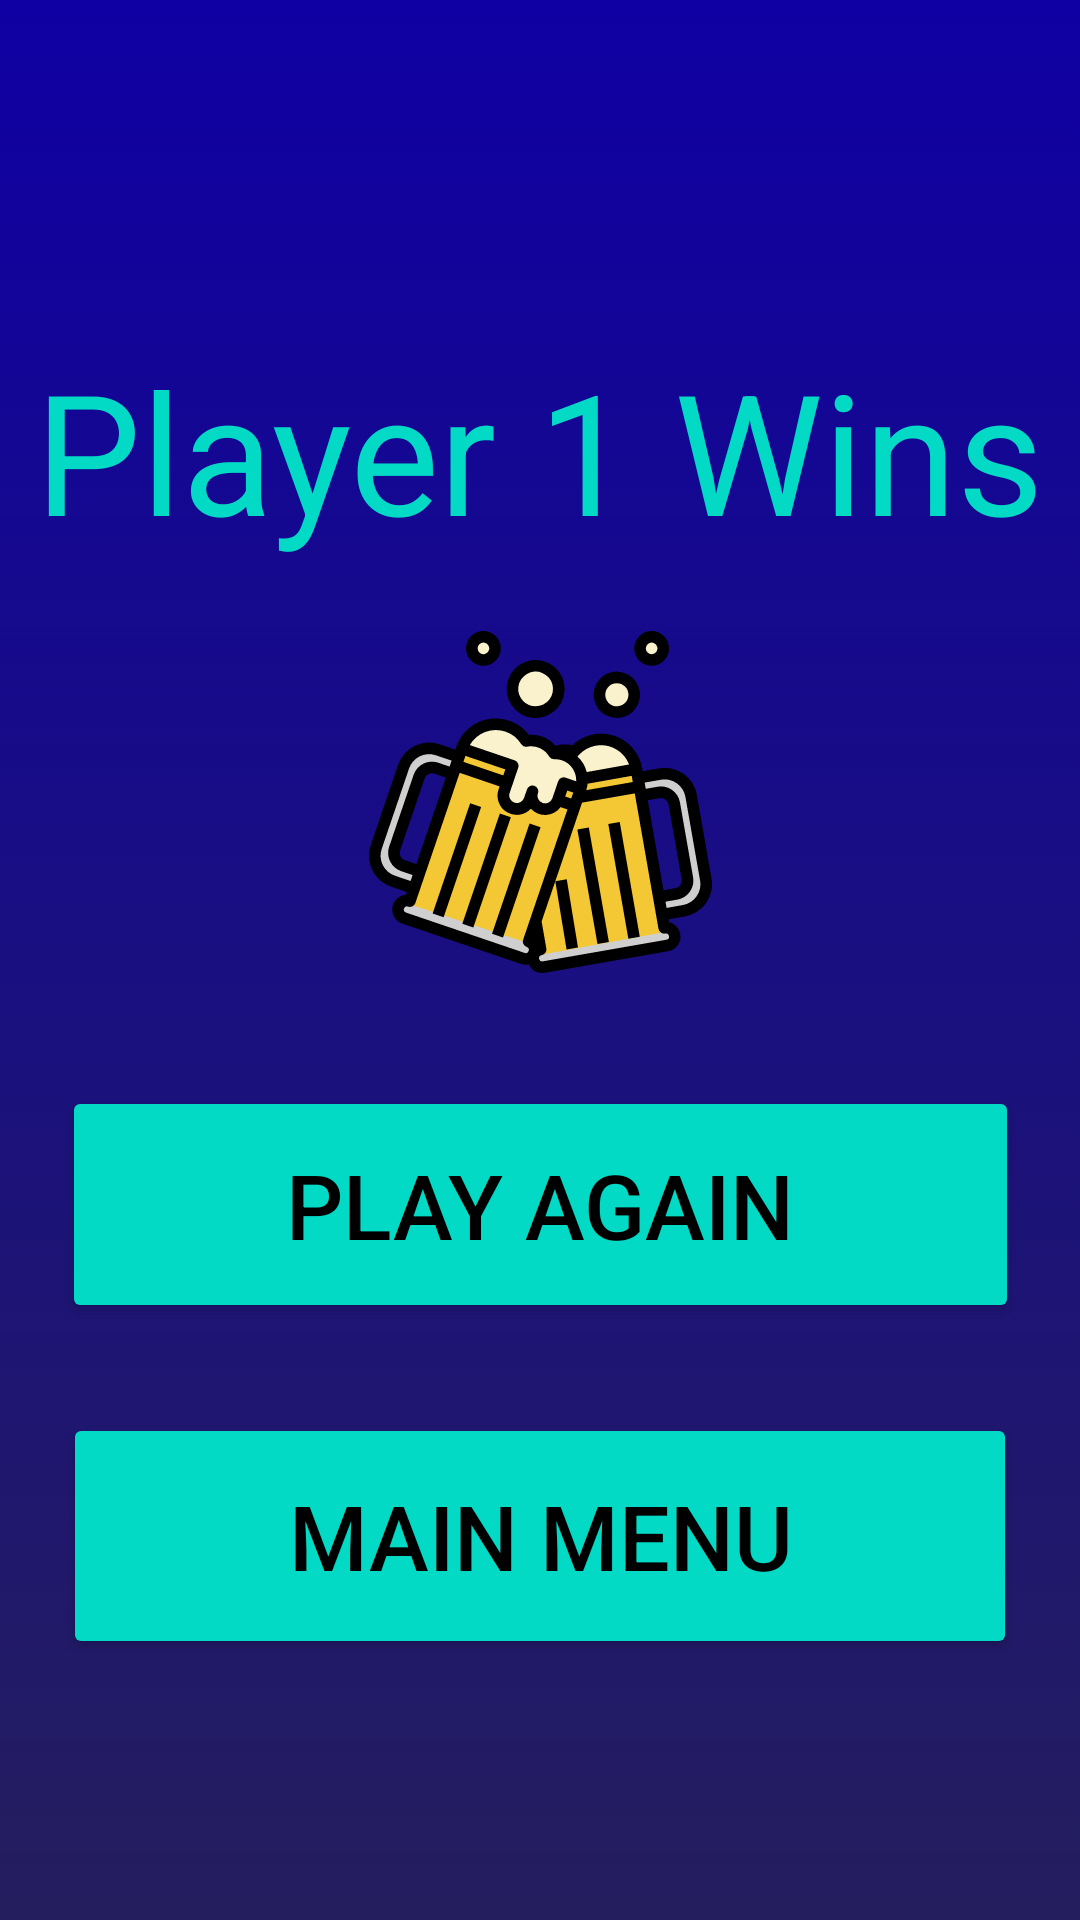

Where icons sit on this 1080×1920 app screen, as (x1, y1, x2, y2):
cheers: (369, 631, 712, 973)
